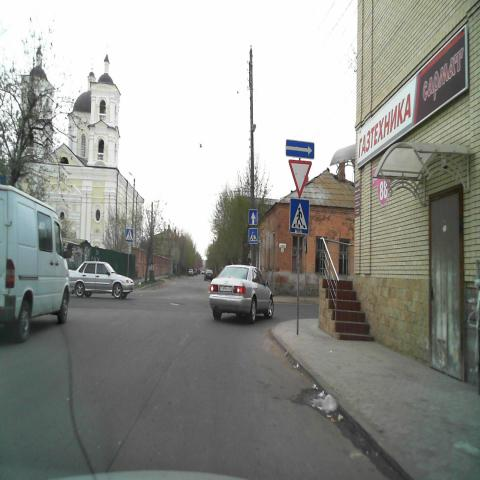5_7_1: (285, 139, 315, 159)
